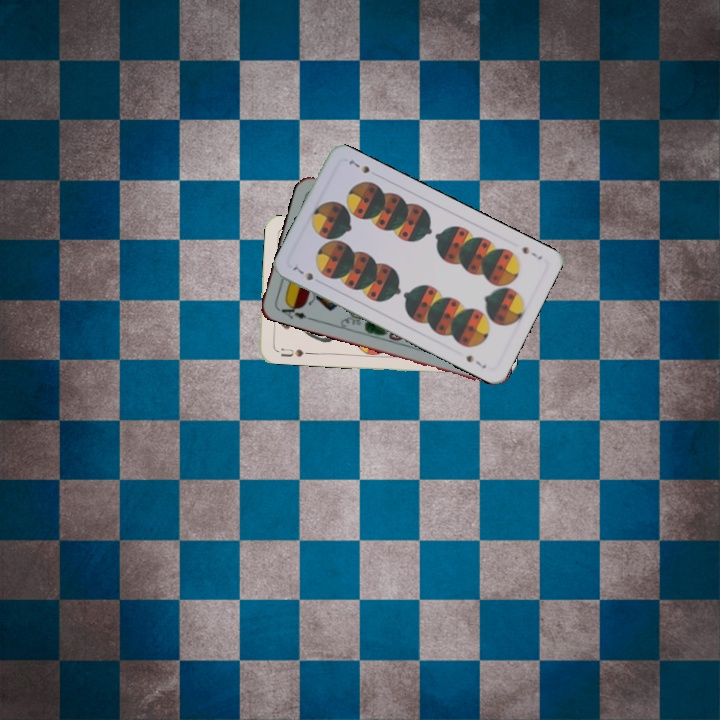EA: (273, 299, 313, 322)
S7: (288, 260, 316, 283), (518, 242, 545, 262)
SU: (277, 344, 306, 359)
